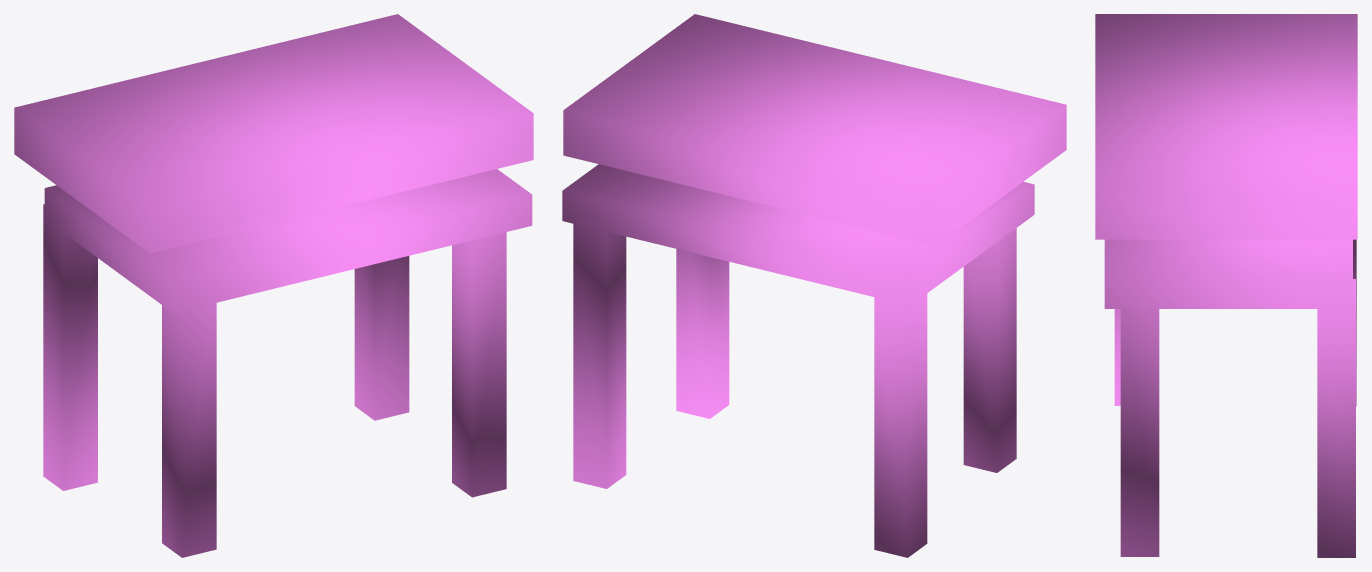
The model's file is ps2_jrpg_market_lantern_post.obj.
3 renders of one model, left to right at view 1: azimuth 30°, elevation 25°; view 2: azimuth 150°, elevation 25°; view 3: azimuth 270°, elevation 25°, orthographic. The views are drawn at different scales.
Size of the model in its own units: 1.56 by 1.47 by 0.95.
